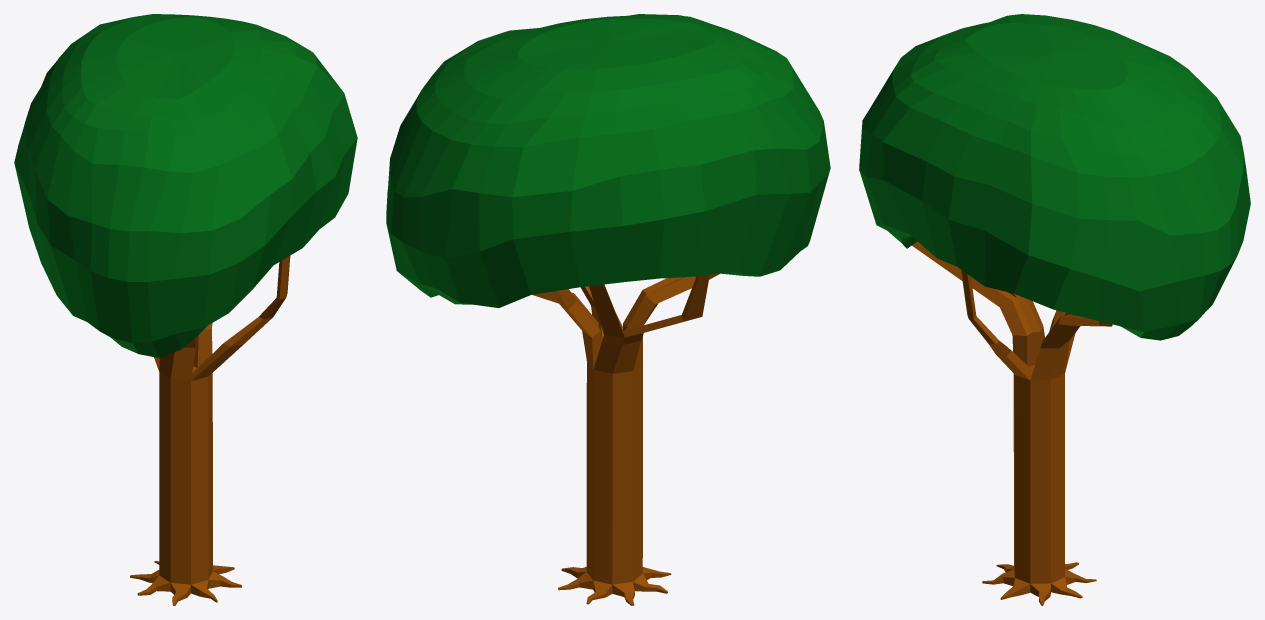
The model's file is treea2.glb.
3 views of the same model, side by side, from view 1: azimuth 30°, elevation 25°; view 2: azimuth 150°, elevation 25°; view 3: azimuth 270°, elevation 25° (orthographic). The views are drawn at different scales.
Visible parts, largest first — view 1: Sphere.006, Cylinder.030; view 2: Sphere.006, Cylinder.030; view 3: Sphere.006, Cylinder.030.
Part boxes in pixels (x1=…): Sphere.006: x1=14, y1=14, x2=357, y2=358; Cylinder.030: x1=130, y1=256, x2=290, y2=605; Sphere.006: x1=386, y1=14, x2=830, y2=307; Cylinder.030: x1=532, y1=273, x2=719, y2=605; Sphere.006: x1=859, y1=14, x2=1250, y2=340; Cylinder.030: x1=912, y1=241, x2=1112, y2=605.
Bounding box in the file's own units: 10.06 × 15.09 × 10.18.
